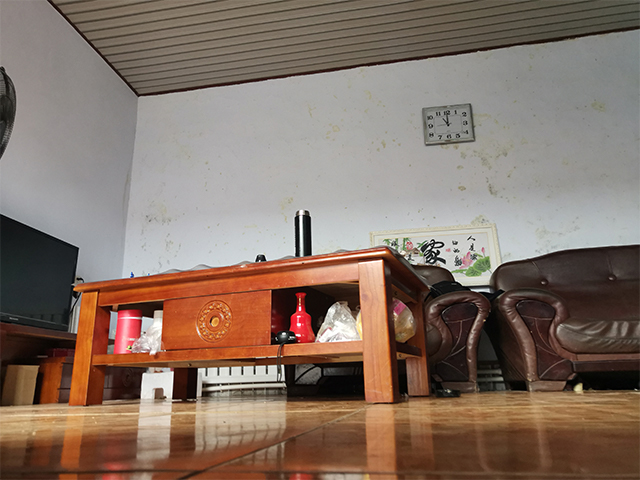sofa: (490, 245, 640, 392)
table: (65, 243, 435, 407)
